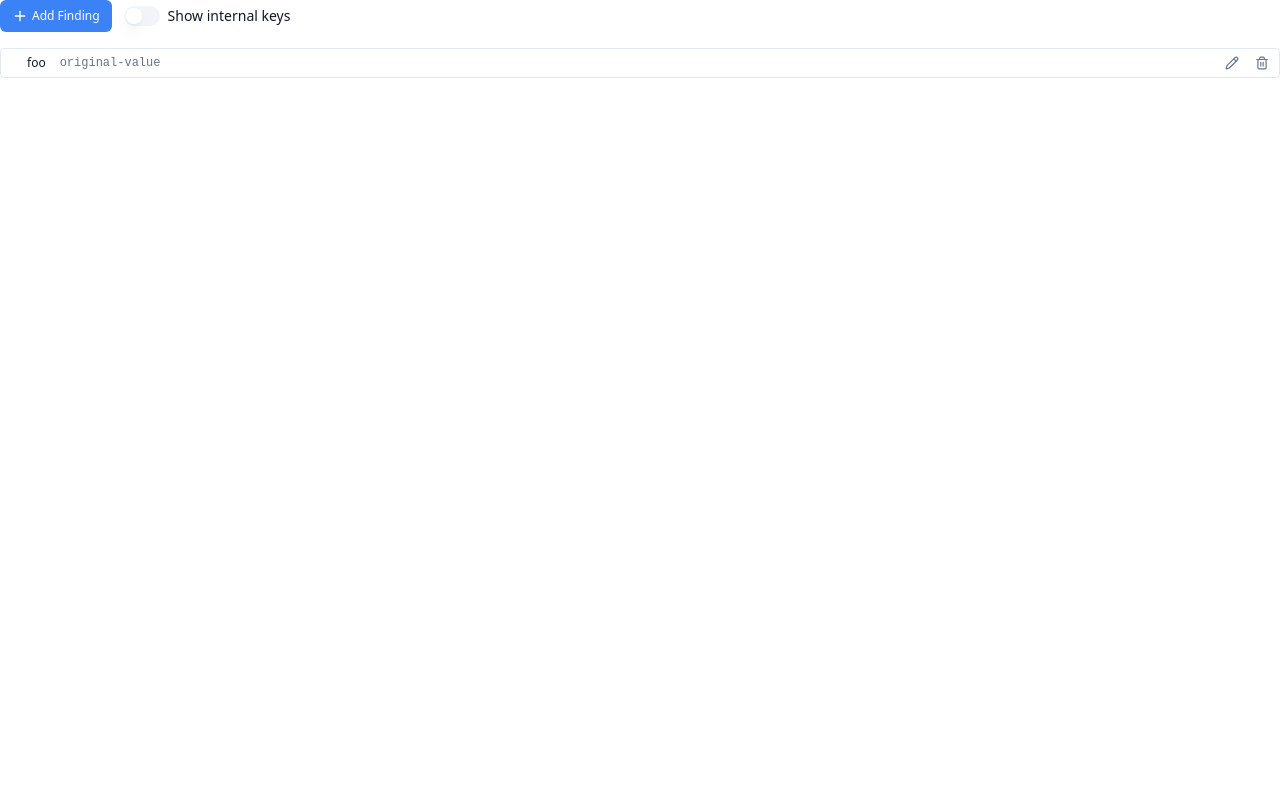
Test case: ProjectFindingsTab › Edit Finding dialog › opens dialog with pre-filled key and value on edit
What coordinates should you click on to do the following:
click the button titled "Edit"
I would click on:
 (1232, 63)
Its box is [1219,50,1245,76].
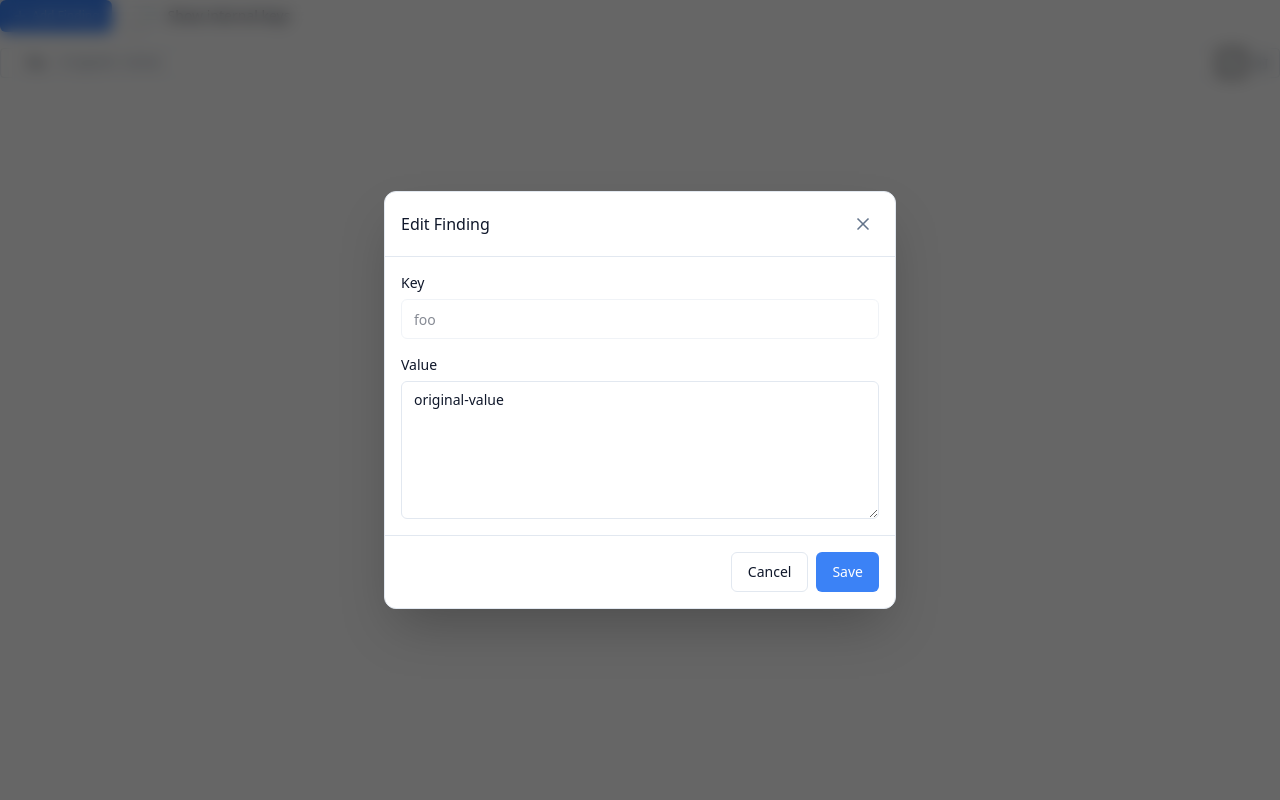
Result: the text "Edit Finding" is shown at [401,213,490,235]
Result: the field with placeholder "finding-key" holds "foo" at [401,299,879,339]
Result: the text box with placeholder "Value..." holds "original-value" at [401,381,879,519]
